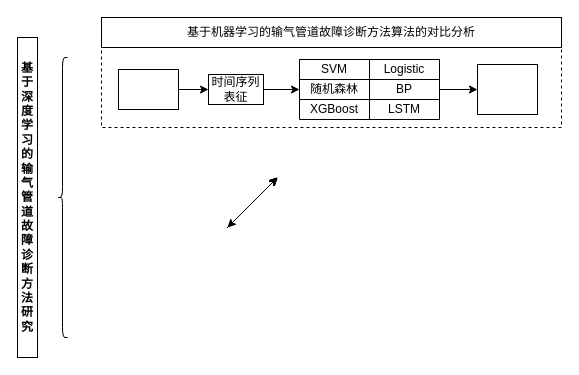
This 579x375 diagram has some shape labels left out. Each missing label, with the centre of its shape:
SPS 故障数据: the point at 148,89
设备单元 故障诊断: the point at 507,89
